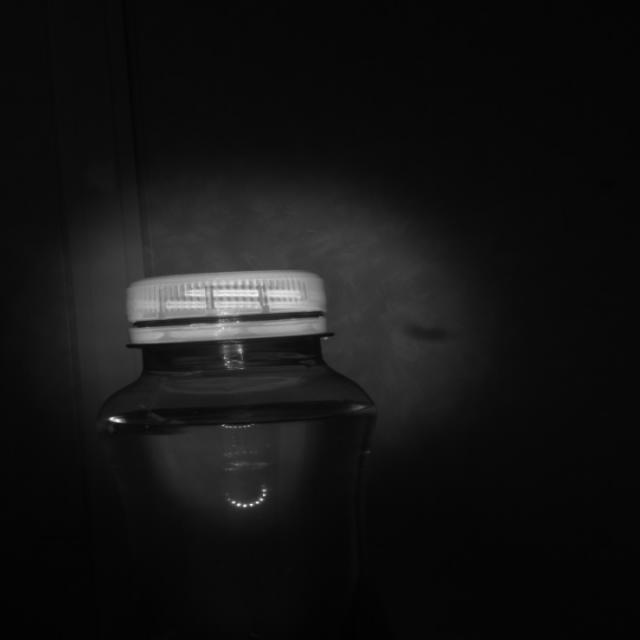Not Good: (128, 268, 328, 346)
